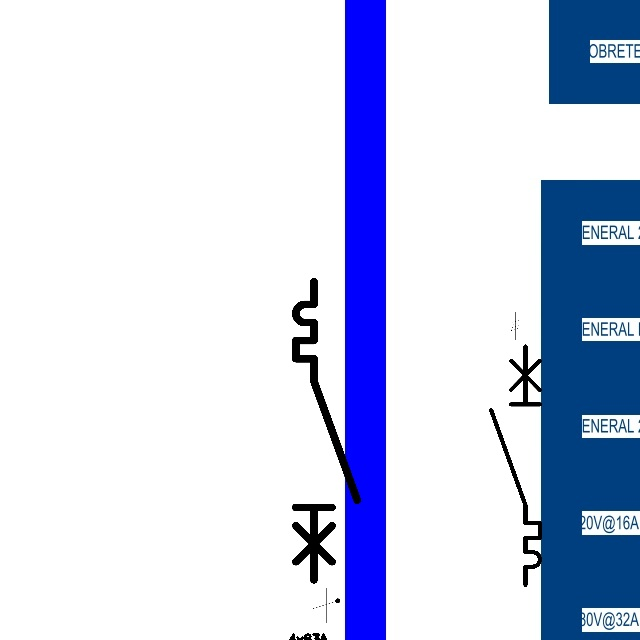interruptor_termomagnetico: (288, 274, 365, 588), (485, 340, 546, 591)
